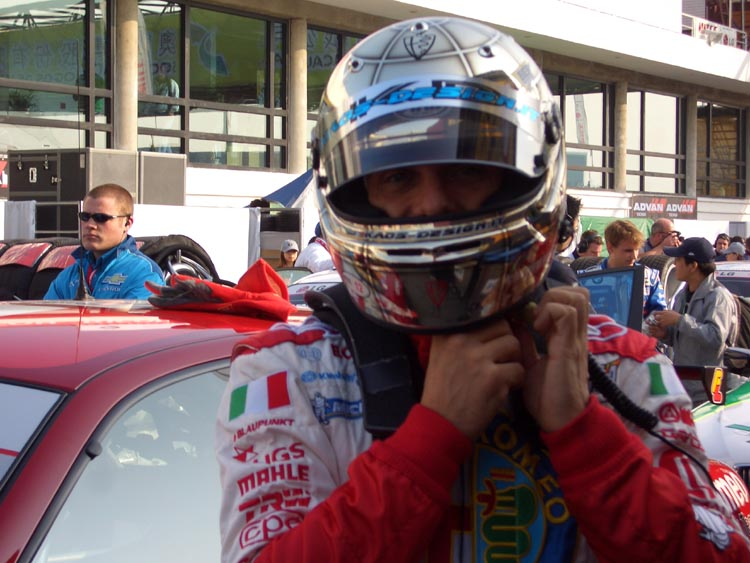helmet: (268, 11, 592, 332)
